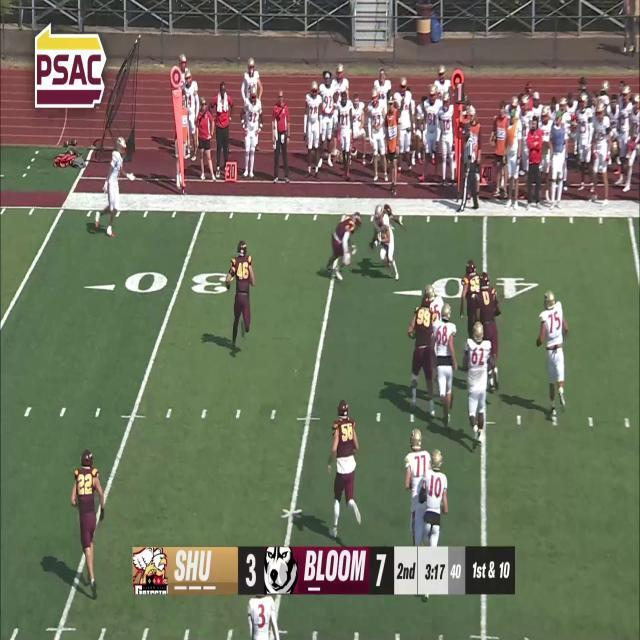football: (379, 232, 386, 242)
